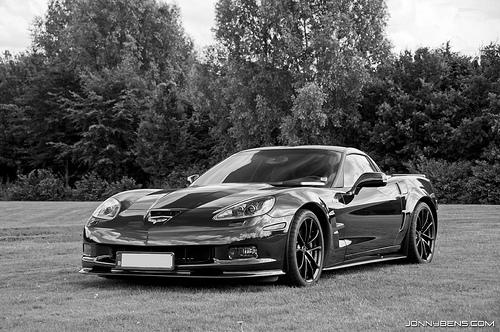car: (80, 145, 443, 288)
